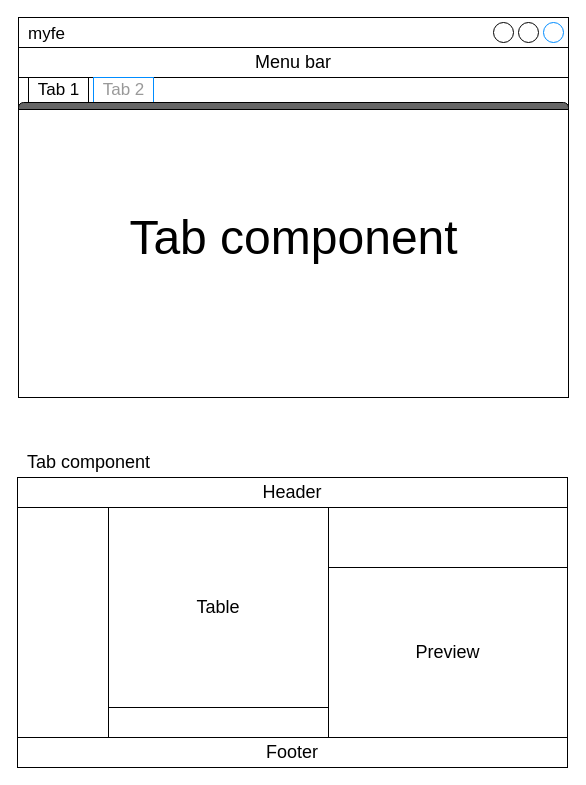
Some shapes in this 586 by 785 pixel diagram are drawn without their labels. The shapes that lost their labels are listed below. From the top down, each one's centre as x and y in pixels, then its label:
the point at 448,537: Details
the point at 62,622: Tree
the point at 218,722: Filter
